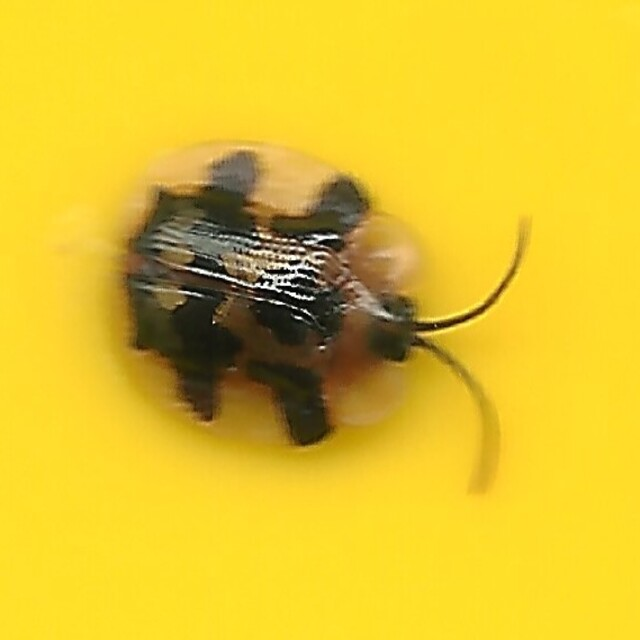Coleoptera: (112, 134, 528, 506)
